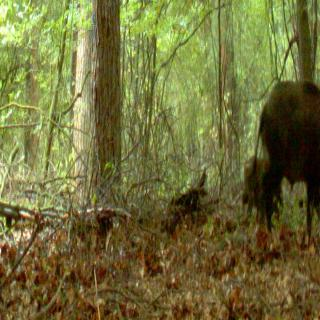Pig: (254, 68, 320, 233)
